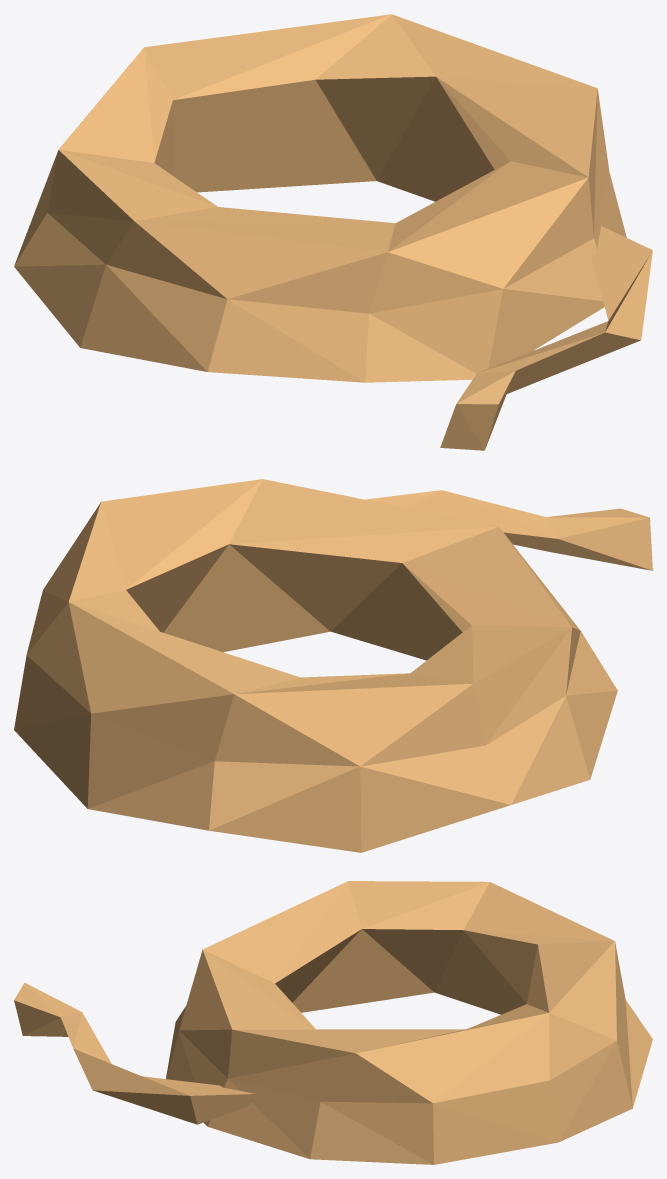
Rendered from Scroll_001.fbx.
The picture shows the model from 3 angles, top to bottom: view 1: azimuth 30°, elevation 25°; view 2: azimuth 150°, elevation 25°; view 3: azimuth 270°, elevation 25°; orthographic projection. The views are drawn at different scales.
Parts seen in each view (by area): view 1: Scroll_001; view 2: Scroll_001; view 3: Scroll_001.
Boxes of the visible parts, x1,y1,x2,y2 form: Scroll_001: [14, 14, 652, 450]; Scroll_001: [14, 479, 652, 852]; Scroll_001: [14, 881, 652, 1164].
Bounding box in the file's own units: 0.1167 × 0.0333 × 0.1522.
